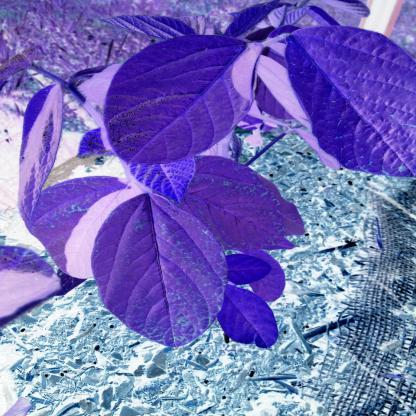Soybean leaf: (91, 190, 231, 351), (105, 32, 268, 170), (282, 20, 416, 182)
